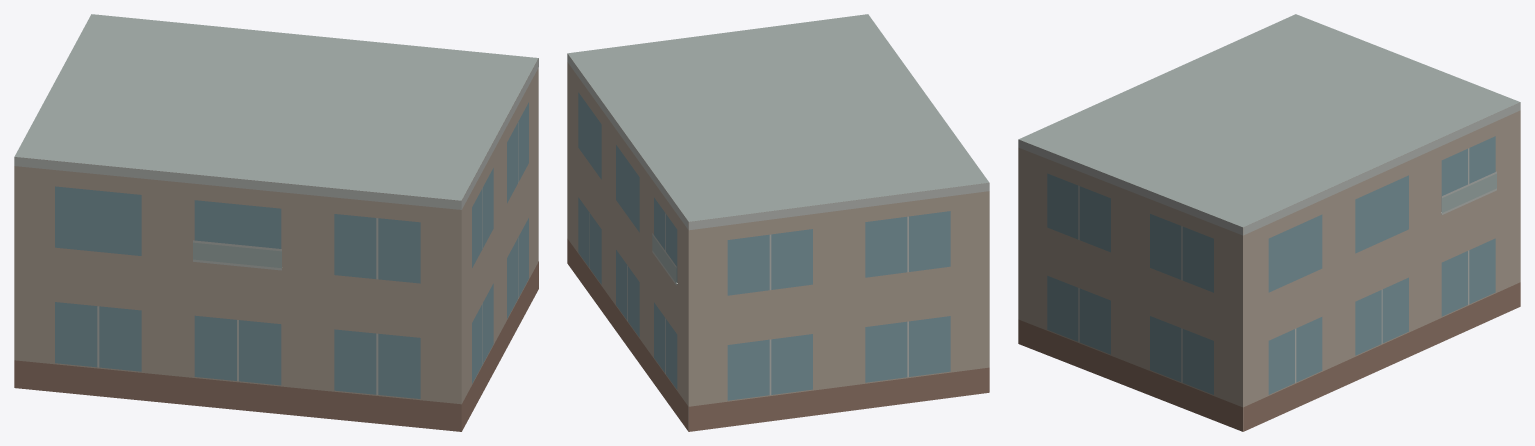
The model's file is survey-upis-32712092.glb.
3 views of the same model, side by side, from view 1: azimuth 30°, elevation 25°; view 2: azimuth 150°, elevation 25°; view 3: azimuth 270°, elevation 25° (orthographic). The views are drawn at different scales.
Parts seen in each view (by area): view 1: survey-upis-32712092.tmp; view 2: survey-upis-32712092.tmp; view 3: survey-upis-32712092.tmp.
Boxes of the visible parts, box(x1,y1,x2,y2) form: survey-upis-32712092.tmp: box(14, 14, 538, 431); survey-upis-32712092.tmp: box(567, 14, 989, 431); survey-upis-32712092.tmp: box(1018, 14, 1520, 431).
Bounding box in the file's own units: 13.67 × 6.1 × 13.59.
